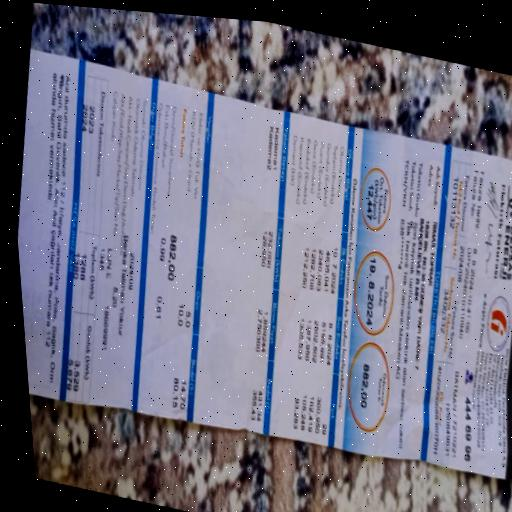electricity-bill: (18, 49, 512, 478)
